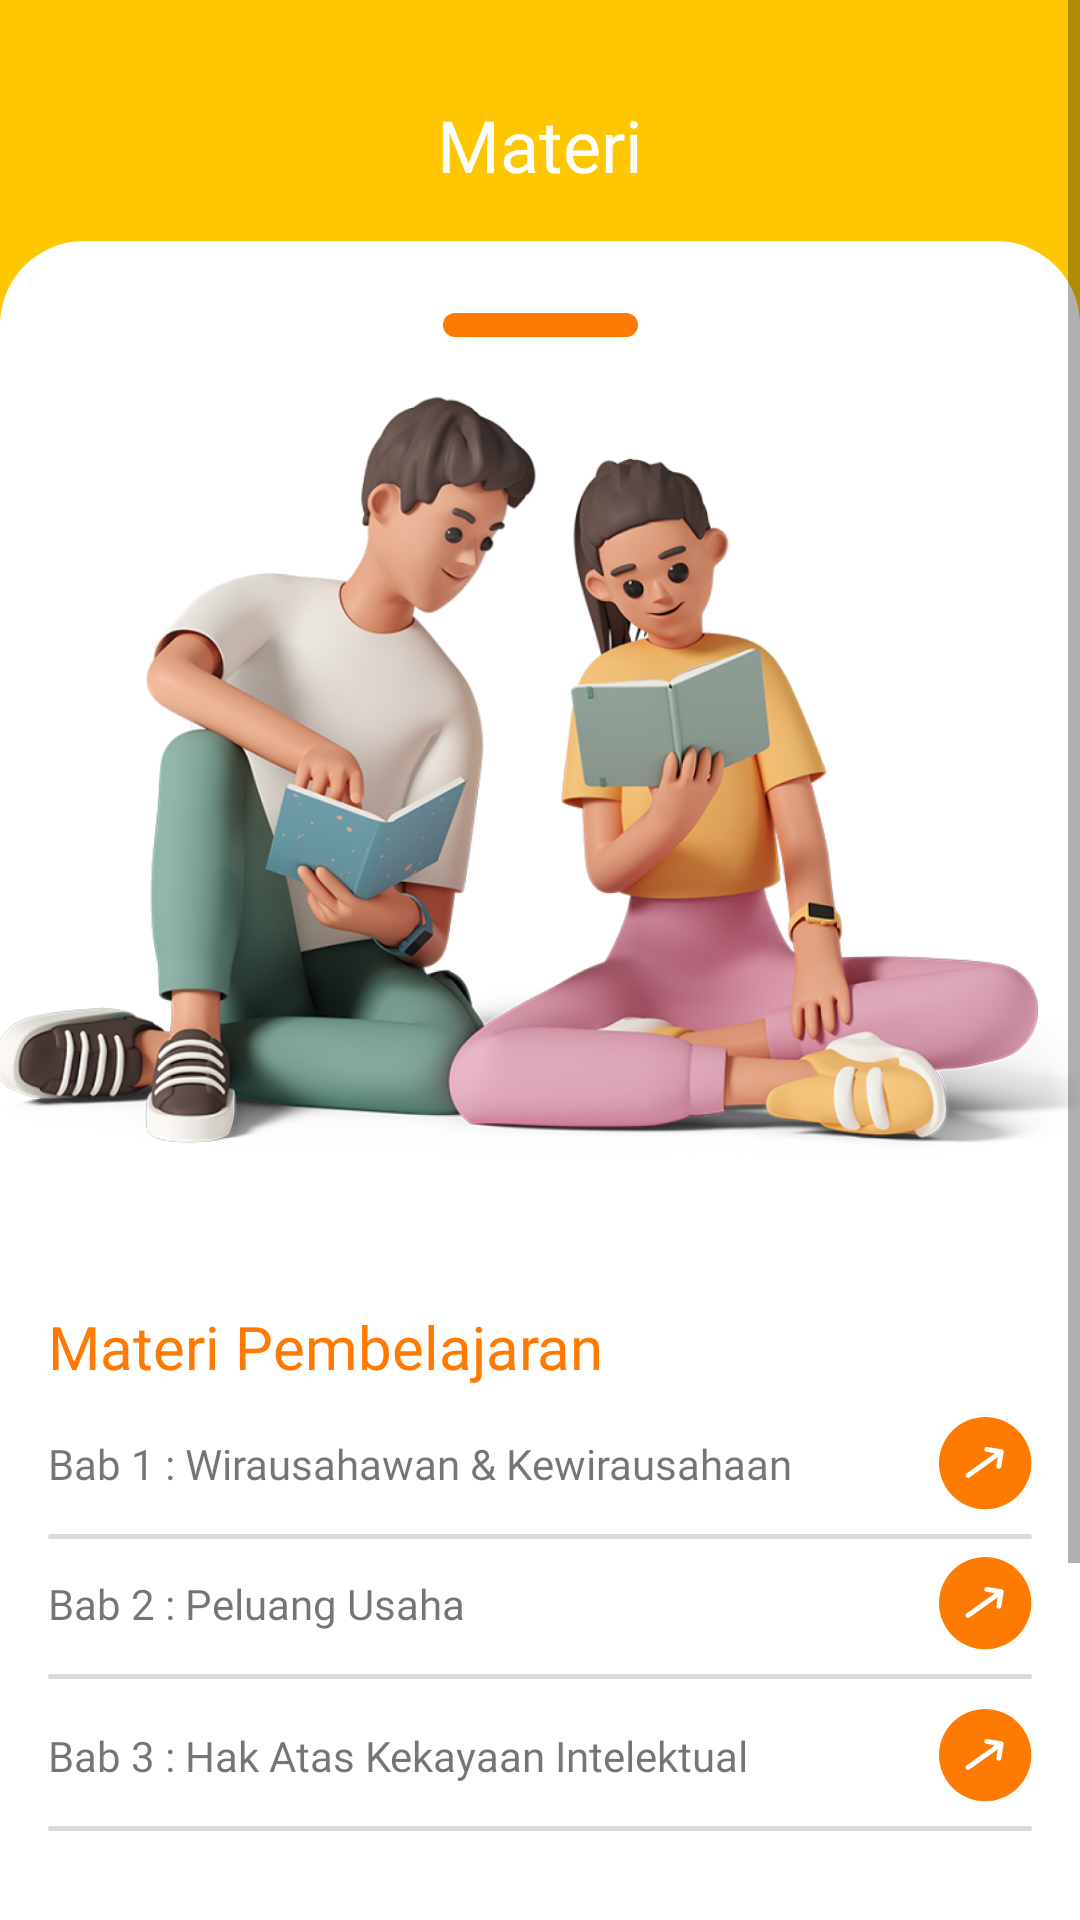

Icon bounding boxes for this 1080px x 1920px phone screenshot, format detection(x1, y1, x2, y2):
extend: detection(939, 1417, 1032, 1510), detection(939, 1557, 1032, 1650), detection(939, 1709, 1032, 1802)
